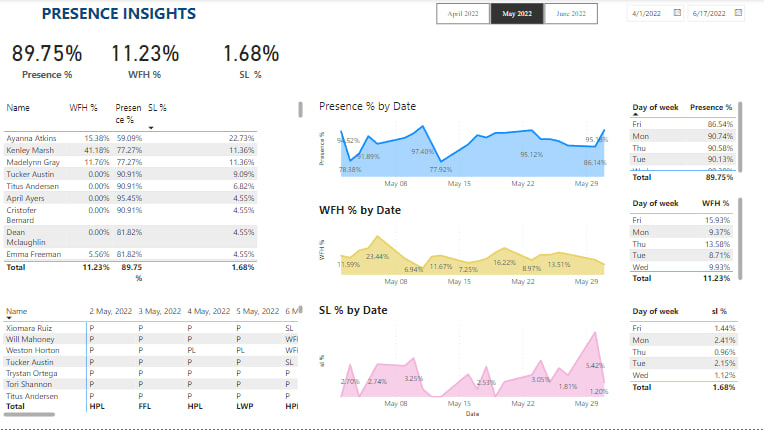

The page's visual inventory and layout, read from the dashboard file:
{"tool":"powerbi","page":{"name":"PRESENCE INSIGHTS","canvas":[1280,720],"ordinal":0},"visuals":[{"type":"card","fields":{"Values":["Measure.Presence %"]},"box":[0,48.6,157.5,97.2],"z":2},{"type":"slicer","fields":{"Values":["FINAL DATA.Month"]},"box":[705.3,0,320,48.6],"z":3},{"type":"card","fields":{"Values":["Measure.WFH %"]},"box":[157.5,48.6,169.2,97.2],"z":4},{"type":"card","fields":{"Values":["Measure.sl %"]},"box":[326.7,48.6,186,97.2],"z":5},{"type":"tableEx","fields":{"Values":["FINAL DATA.Name","Measure.WFH %","Measure.Presence %","Measure.sl %"]},"box":[0,165.9,512.7,315],"z":6},{"type":"textbox","box":[53.6,0,289.8,48.6],"z":7},{"type":"pivotTable","fields":{"Rows":["FINAL DATA.Name"],"Values":["Min(FINAL DATA.Value)"],"Columns":["FINAL DATA.Date"]},"box":[0,507.6,512.7,197.7],"z":8},{"type":"stackedAreaChart","fields":{"Y":["Measure.Presence %"],"Category":["FINAL DATA.Date"]},"box":[529.4,165.9,507.6,160.8],"z":9},{"type":"stackedAreaChart","fields":{"Y":["Measure.WFH %"],"Category":["FINAL DATA.Date"]},"box":[529.4,340.1,507.6,152.5],"z":10},{"type":"stackedAreaChart","title":"SL % by Date","fields":{"Y":["Measure.sl %"],"Category":["FINAL DATA.Date"]},"box":[529.4,507.6,507.6,197.7],"z":11},{"type":"tableEx","fields":{"Values":["FINAL DATA.Day of week","Measure.Presence %"]},"box":[1048.8,165.9,201,145.8],"z":12},{"type":"tableEx","fields":{"Values":["FINAL DATA.Day of week","Measure.WFH %"]},"box":[1048.8,326.7,201,154.1],"z":13},{"type":"tableEx","fields":{"Values":["FINAL DATA.Day of week","Measure.sl %"]},"box":[1048.8,507.6,201,197.7],"z":14},{"type":"slicer","fields":{"Values":["FINAL DATA.Date"]},"box":[1037.1,0,224.5,48.6],"z":15}]}

Visuals, with their boxes in screenshot pixels (x1, y1, x2, y2), scaled from the page's 1280x720 canvas onto the 764x430 screenshot:
card - Measure.Presence %: bbox(0, 29, 94, 87)
slicer - FINAL DATA.Month: bbox(421, 0, 612, 29)
card - Measure.WFH %: bbox(94, 29, 195, 87)
card - Measure.sl %: bbox(195, 29, 306, 87)
tableEx - FINAL DATA.Name x Measure.WFH %: bbox(0, 99, 306, 287)
textbox: bbox(32, 0, 205, 29)
pivotTable - FINAL DATA.Name x Min(FINAL DATA.Value): bbox(0, 303, 306, 421)
stackedAreaChart - Measure.Presence % x FINAL DATA.Date: bbox(316, 99, 619, 195)
stackedAreaChart - Measure.WFH % x FINAL DATA.Date: bbox(316, 203, 619, 294)
"SL % by Date" stackedAreaChart: bbox(316, 303, 619, 421)
tableEx - FINAL DATA.Day of week x Measure.Presence %: bbox(626, 99, 746, 186)
tableEx - FINAL DATA.Day of week x Measure.WFH %: bbox(626, 195, 746, 287)
tableEx - FINAL DATA.Day of week x Measure.sl %: bbox(626, 303, 746, 421)
slicer - FINAL DATA.Date: bbox(619, 0, 753, 29)
